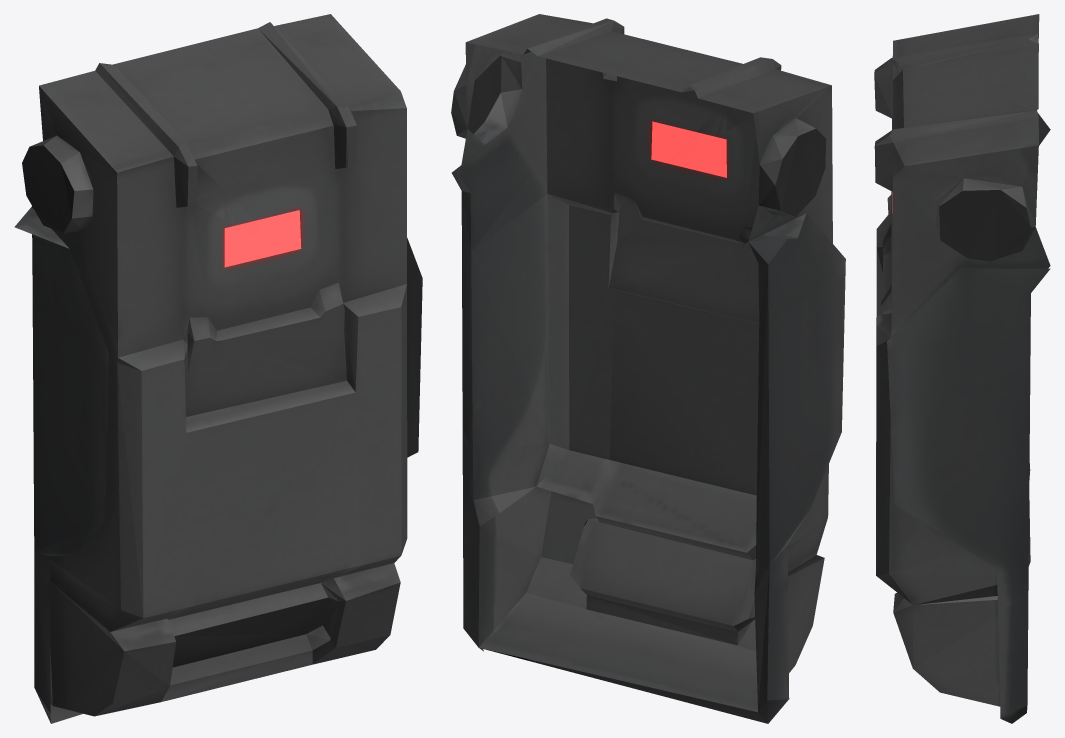
The model's file is chest_latch.fbx.
The picture shows the model from 3 angles, left to right: view 1: azimuth 30°, elevation 25°; view 2: azimuth 150°, elevation 25°; view 3: azimuth 270°, elevation 25°; orthographic projection. The views are drawn at different scales.
Parts seen in each view (by area): view 1: SM_Chest_Latch; view 2: SM_Chest_Latch; view 3: SM_Chest_Latch.
Part boxes in pixels (<box>): SM_Chest_Latch: <box>14,14,422,723</box>; SM_Chest_Latch: <box>451,14,845,723</box>; SM_Chest_Latch: <box>874,14,1050,723</box>.
Size of the model in its own units: 24.94 by 43.91 by 11.91.
Materials: 2 (1 with a texture image).
